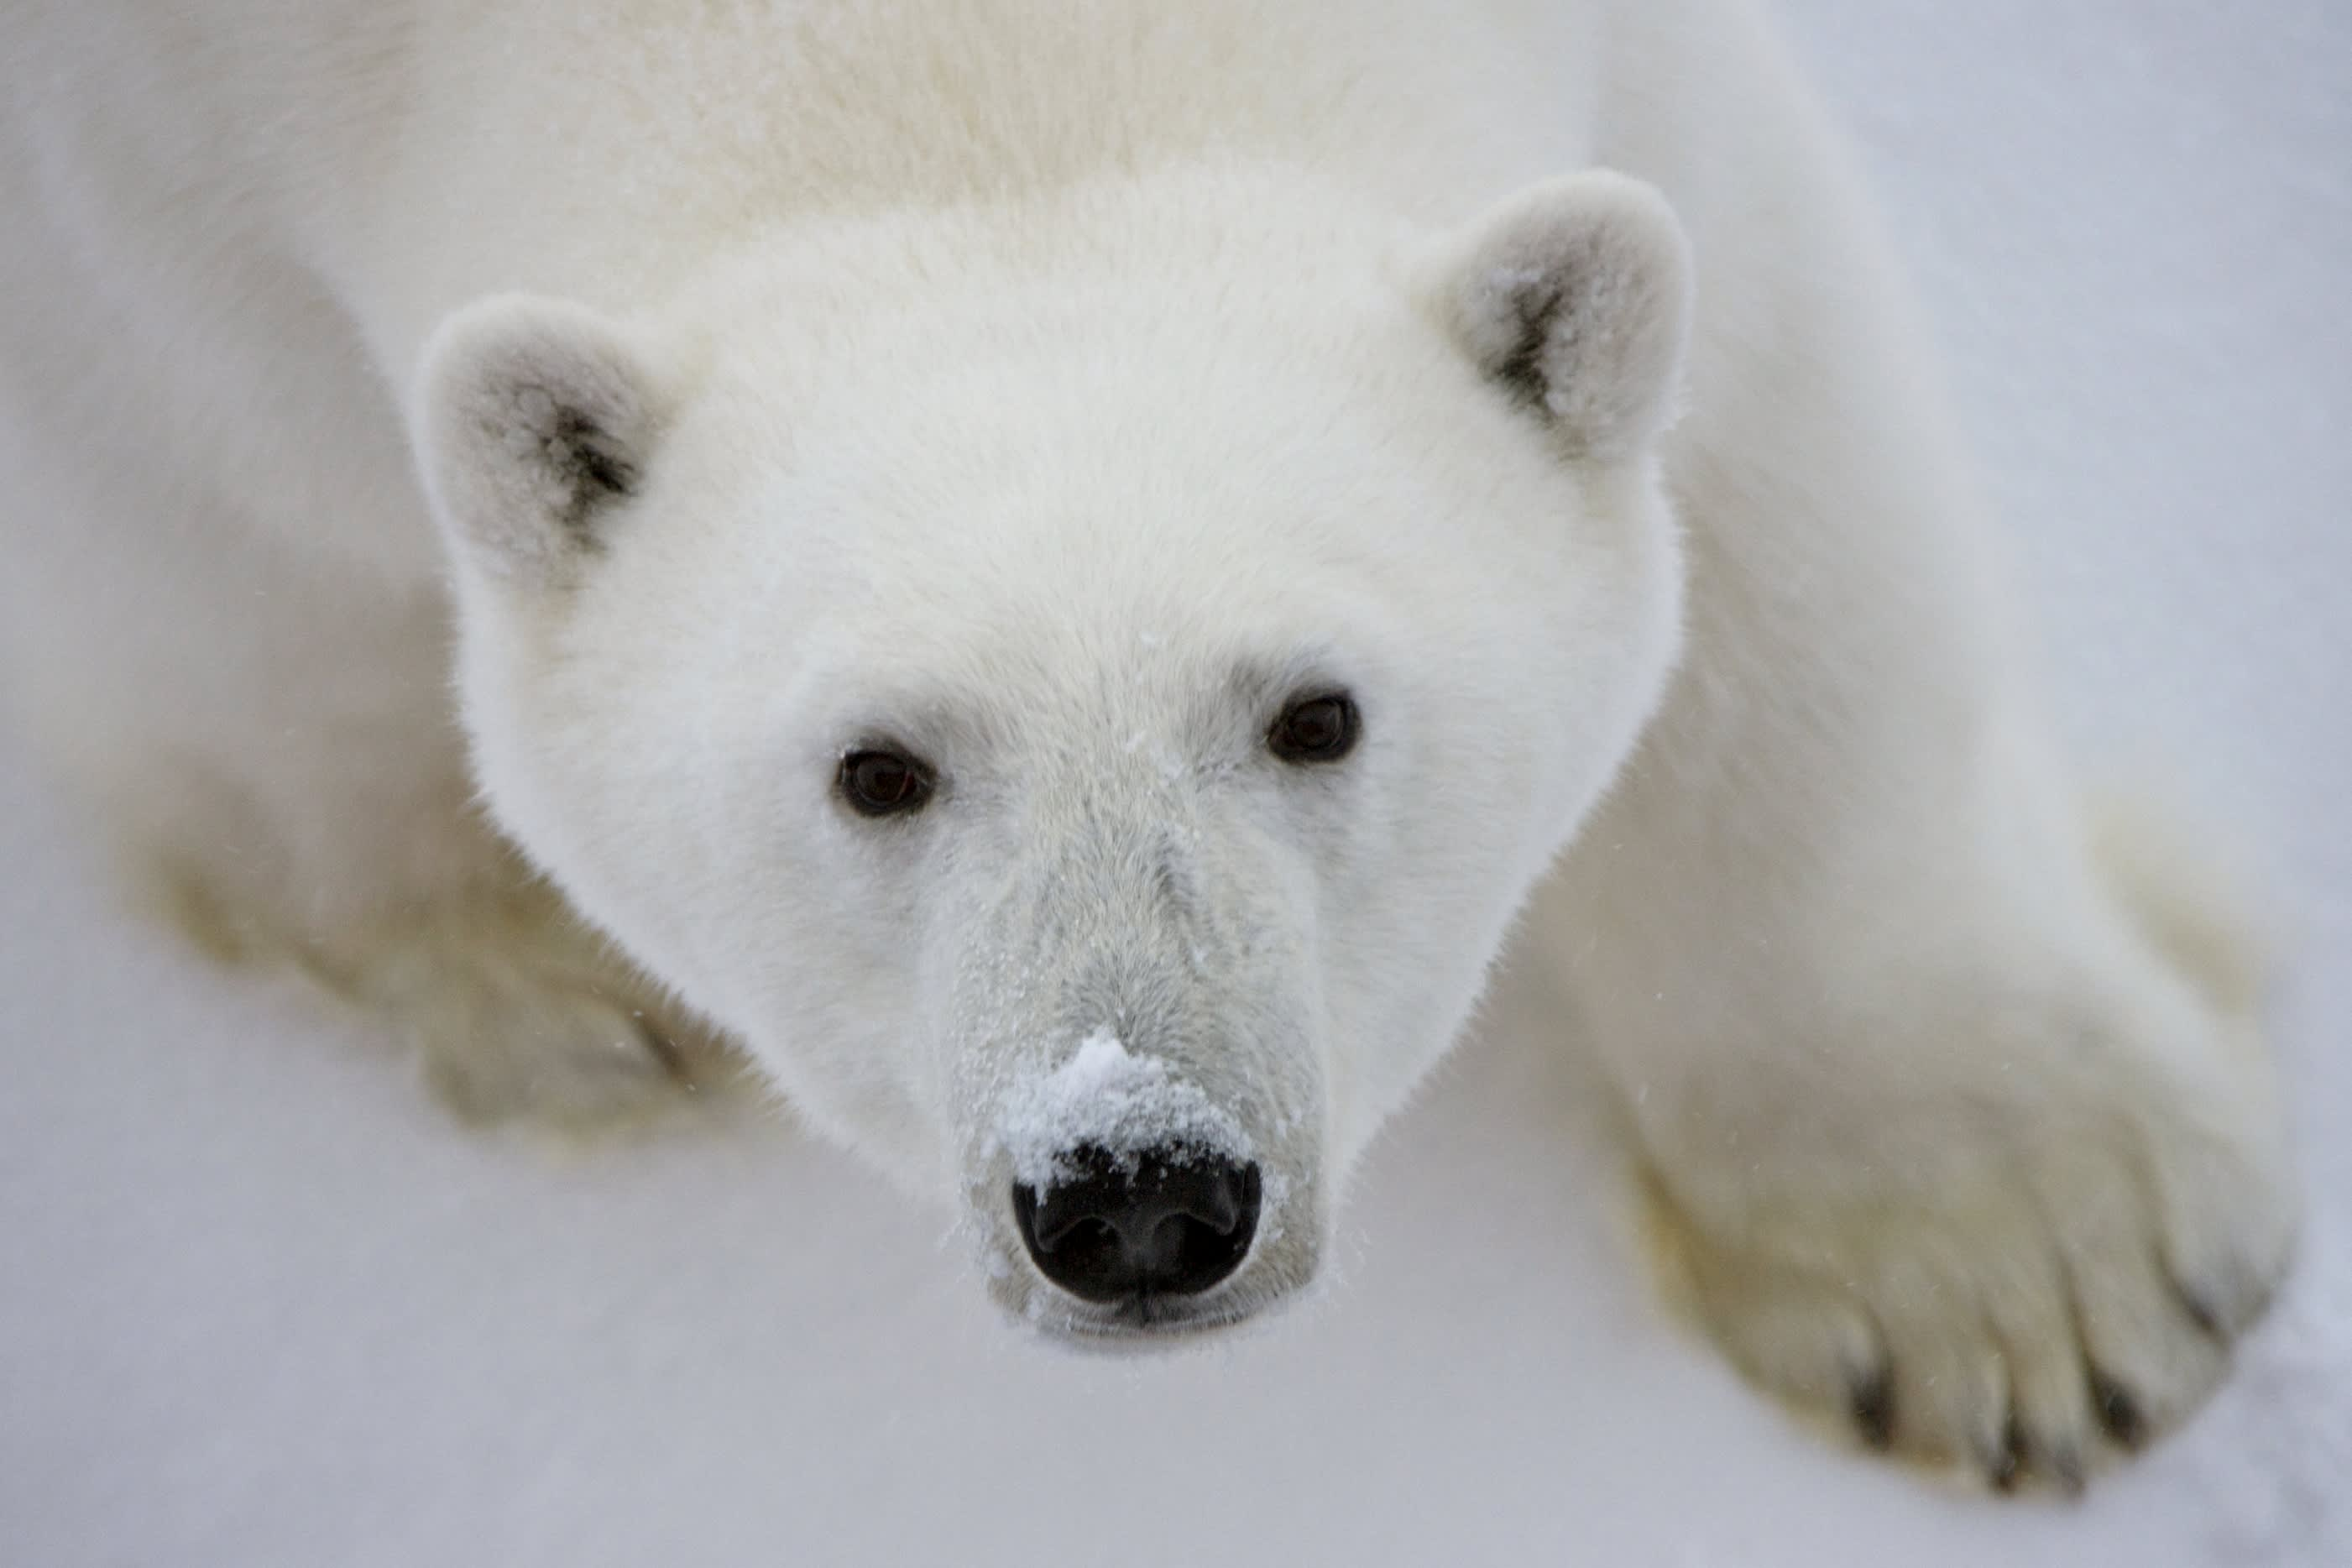PolarBear: (313, 124, 1815, 1342)
